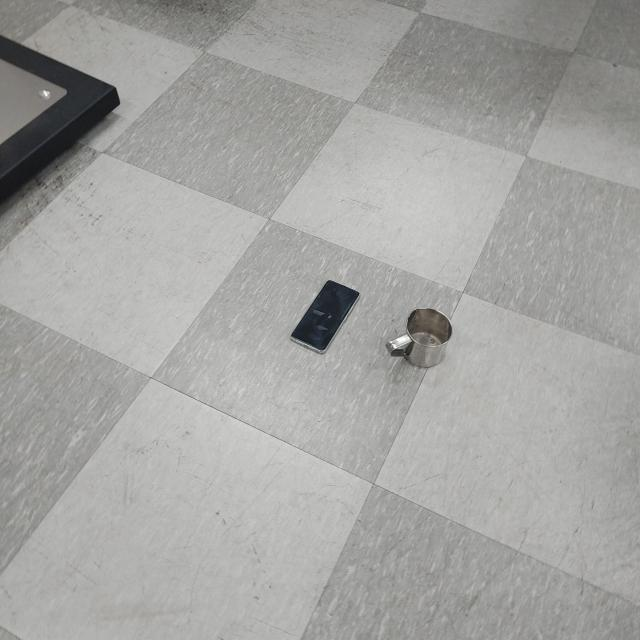cup: (387, 304, 454, 369)
phone: (290, 277, 360, 353)
